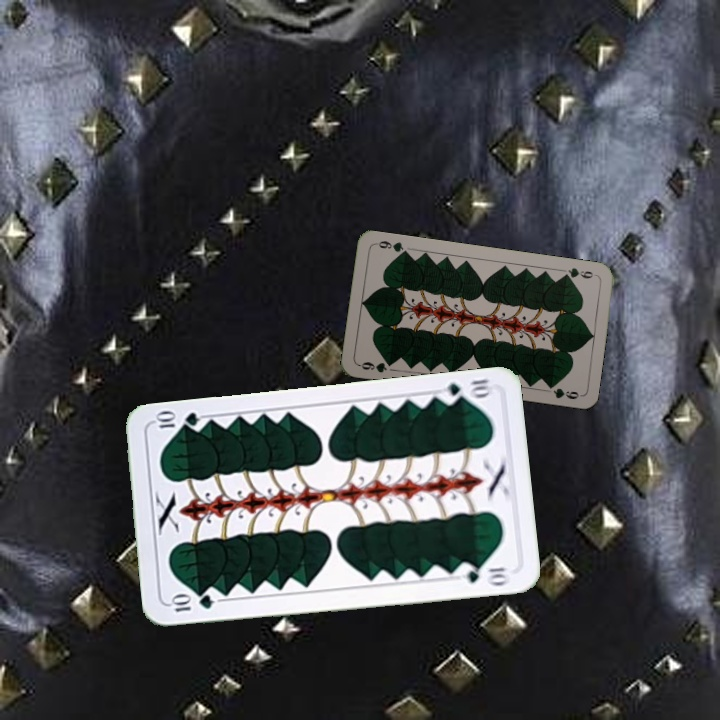G10: (437, 375, 495, 406), (166, 591, 217, 615)
G9: (355, 357, 396, 375), (558, 263, 599, 281)
